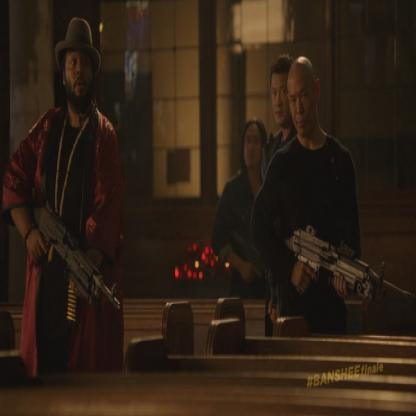Guns: (2, 195, 122, 326), (274, 222, 415, 326), (229, 223, 267, 274)
